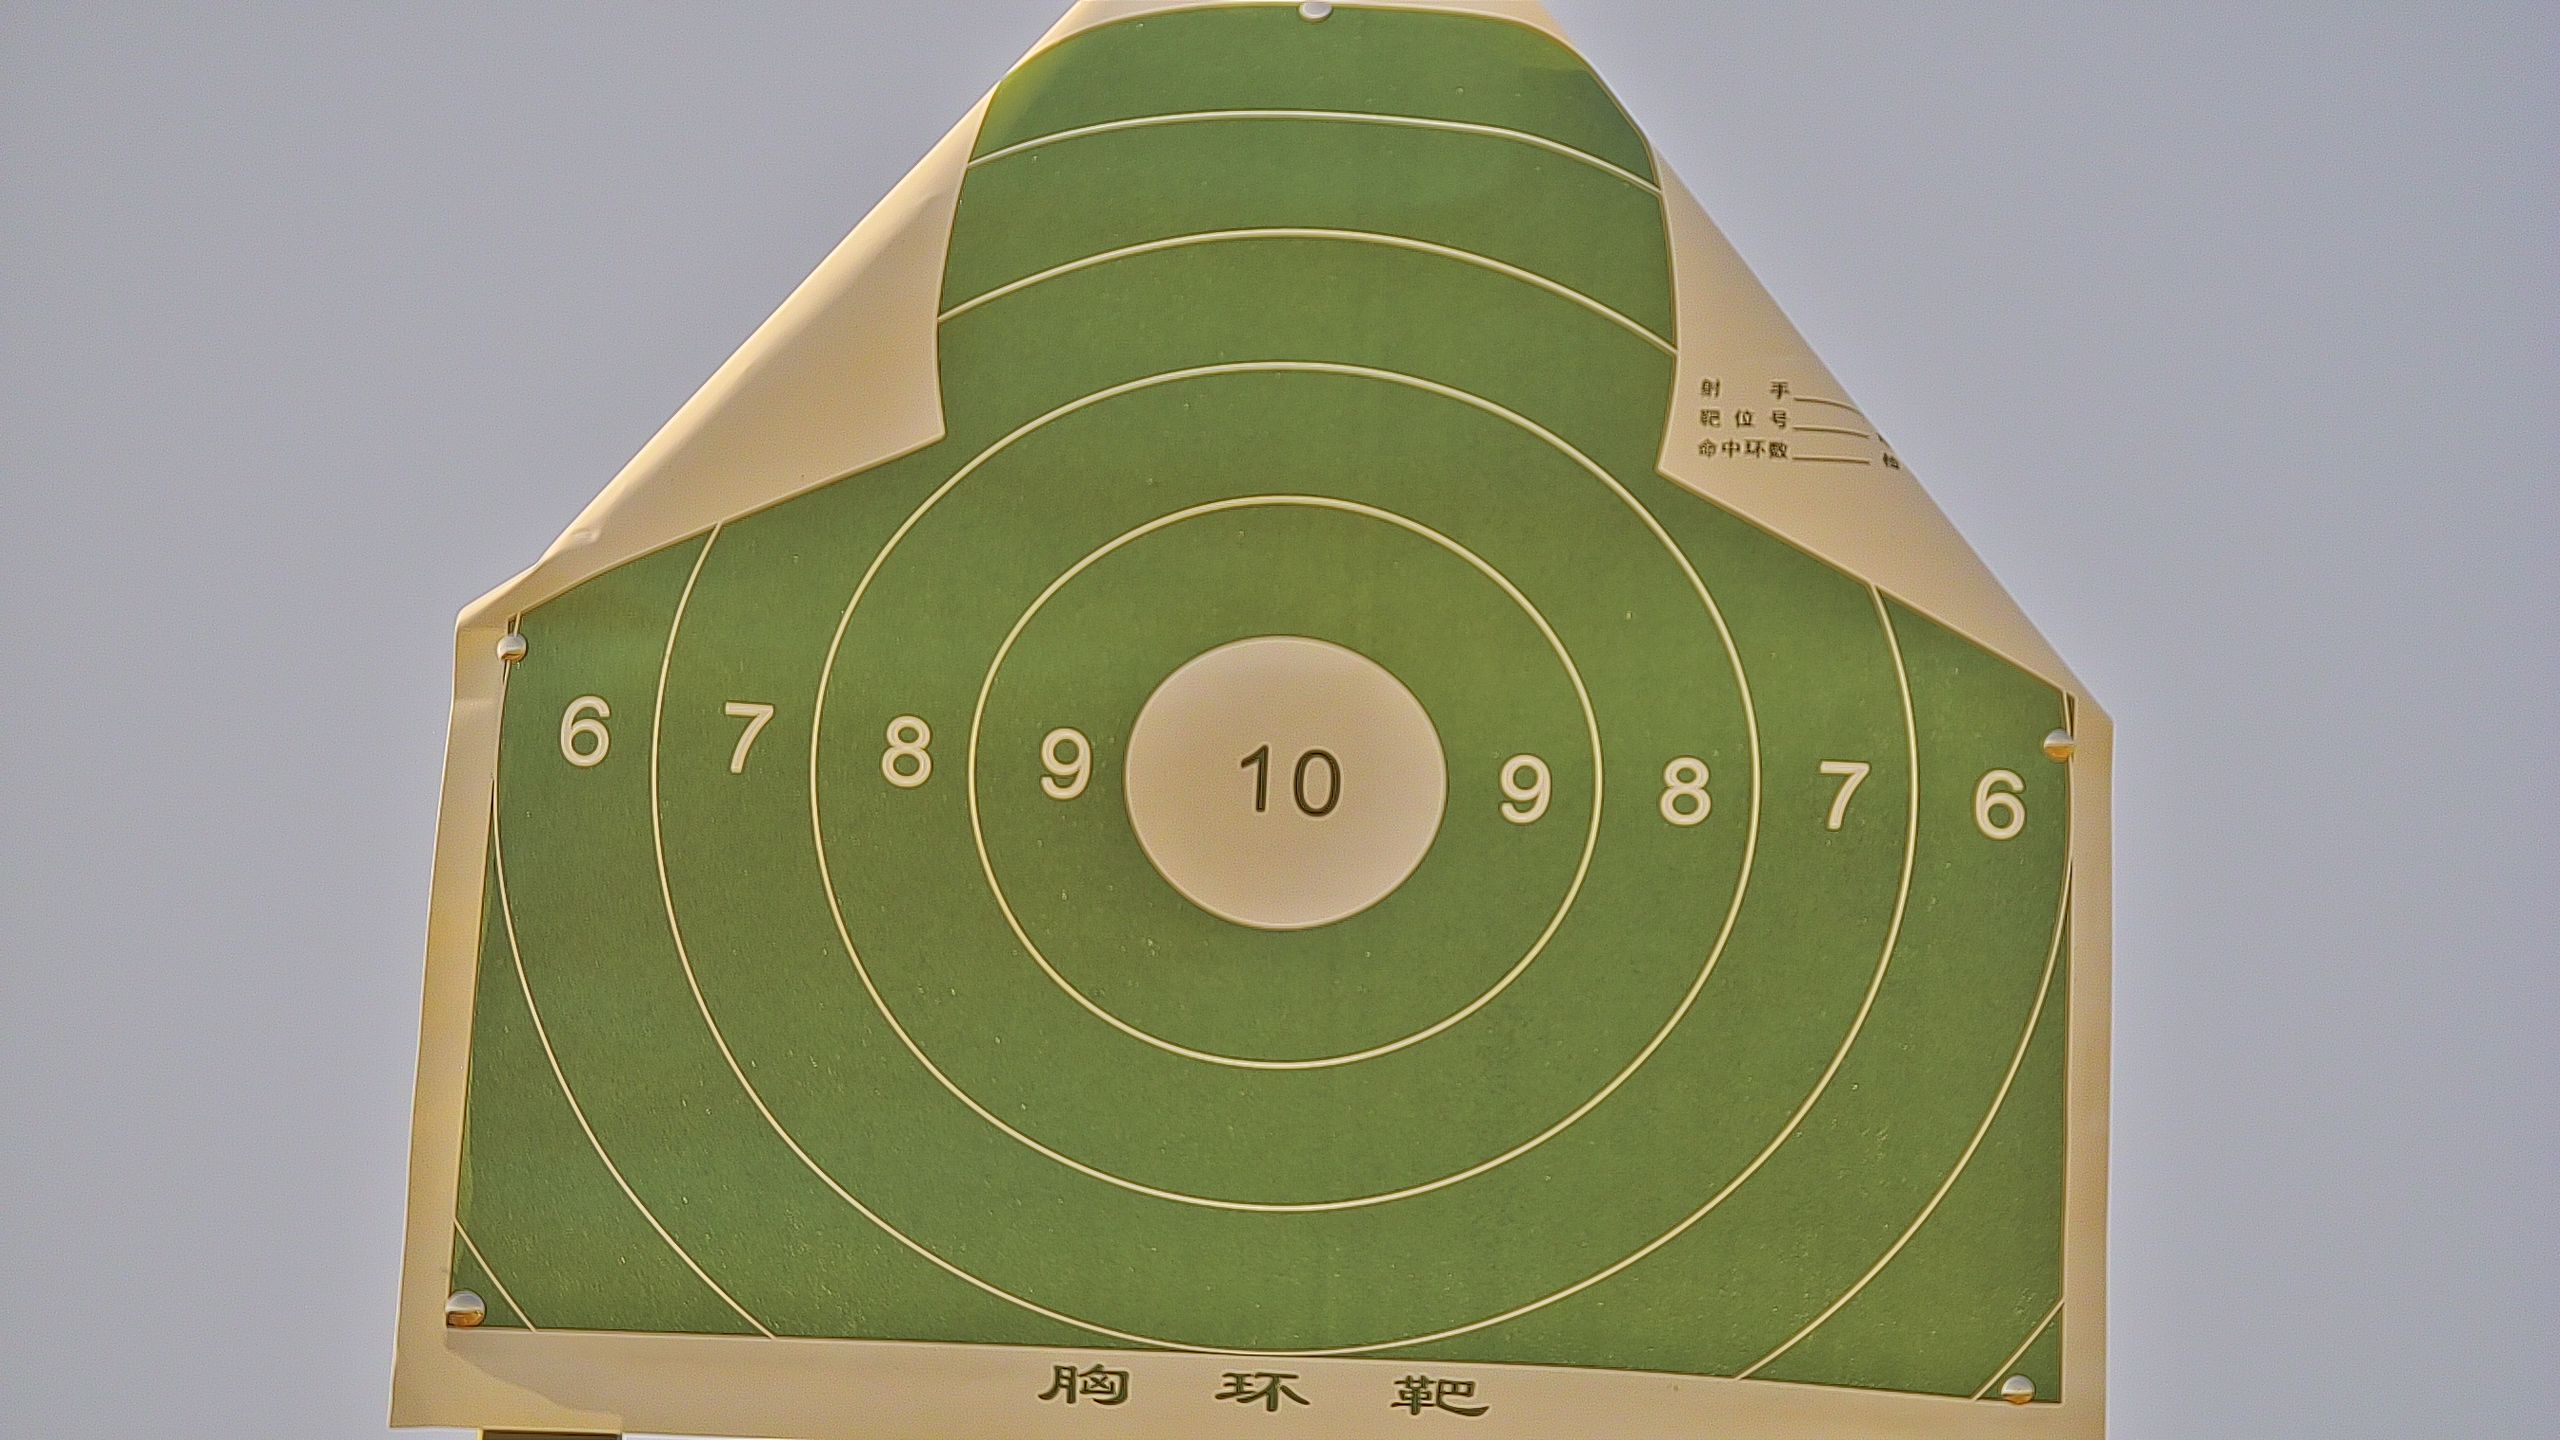kernel: (1282, 777, 1289, 781)
target: (433, 7, 2078, 1412)
ten: (1127, 633, 1447, 934)
